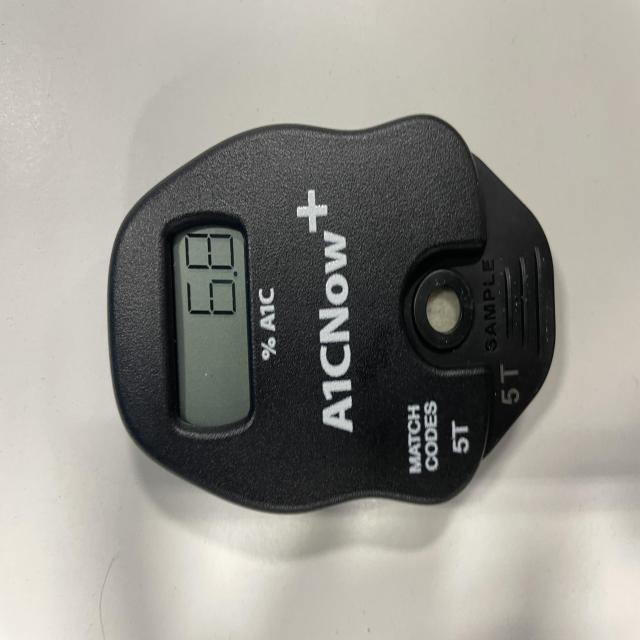hba1c: (107, 115, 558, 517)
